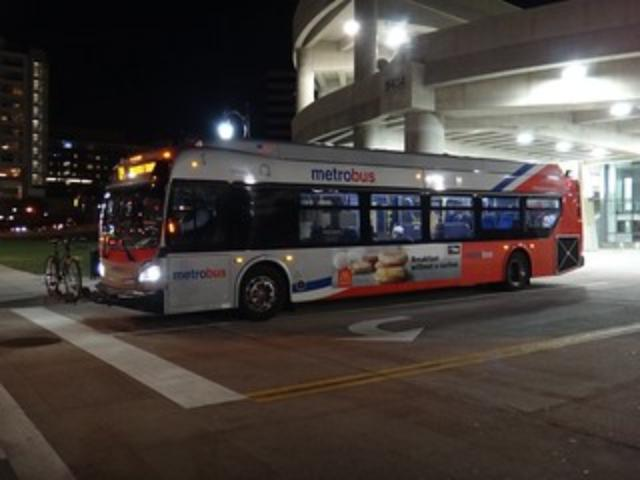bus: (92, 142, 582, 324)
